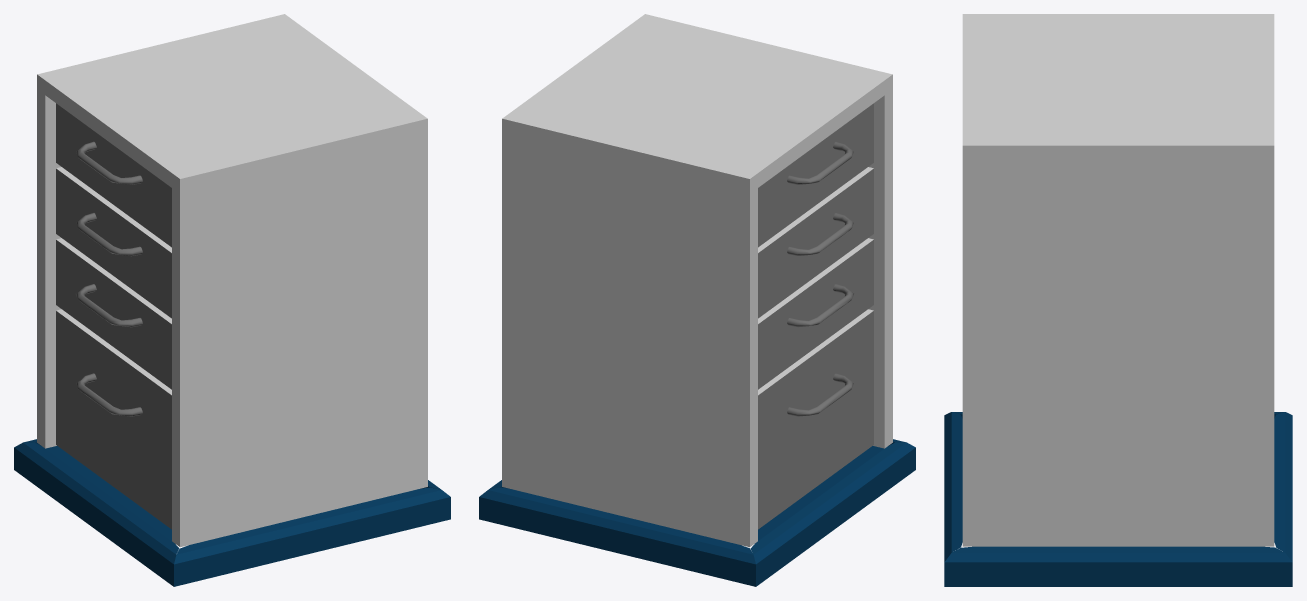
File: Cabnet.fbx
3 views of the same model, side by side, from view 1: azimuth 30°, elevation 25°; view 2: azimuth 150°, elevation 25°; view 3: azimuth 270°, elevation 25° (orthographic). The views are drawn at different scales.
Parts seen in each view (by area): view 1: Retopo_Cube.001; view 2: Retopo_Cube.001; view 3: Retopo_Cube.001.
Boxes of the visible parts, <box> form: Retopo_Cube.001: <box>14,14,450,586</box>; Retopo_Cube.001: <box>479,14,915,586</box>; Retopo_Cube.001: <box>944,14,1292,586</box>.
Size of the model in its own units: 7.62 by 10.43 by 7.59.
